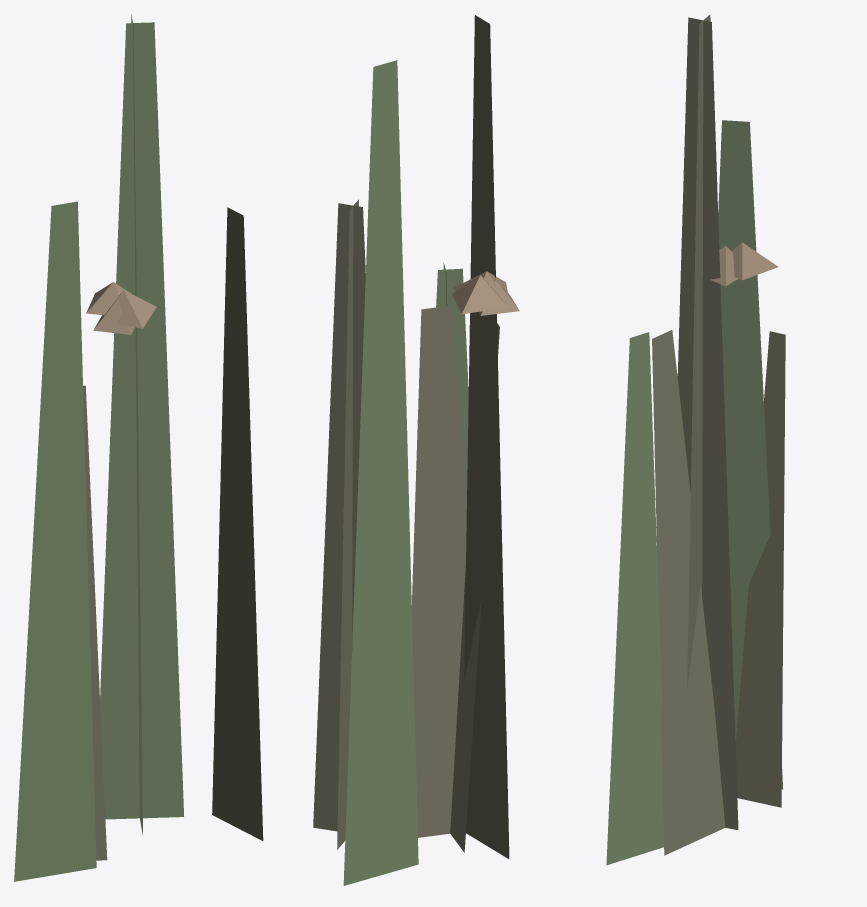
File: water.sub.reed_cattail__winter.glb
3 renders of one model, left to right at view 1: azimuth 30°, elevation 25°; view 2: azimuth 150°, elevation 25°; view 3: azimuth 270°, elevation 25°, orthographic. The views are drawn at different scales.
Parts seen in each view (by area): view 1: water.sub.reed_cattail__winter; view 2: water.sub.reed_cattail__winter; view 3: water.sub.reed_cattail__winter.
Boxes of the visible parts, x1,y1,x2,y2 form: water.sub.reed_cattail__winter: (14,14,263,881); water.sub.reed_cattail__winter: (313,15,519,885); water.sub.reed_cattail__winter: (606,14,785,865).
Bounding box in the file's own units: 0.7483 × 2.25 × 0.6248.
